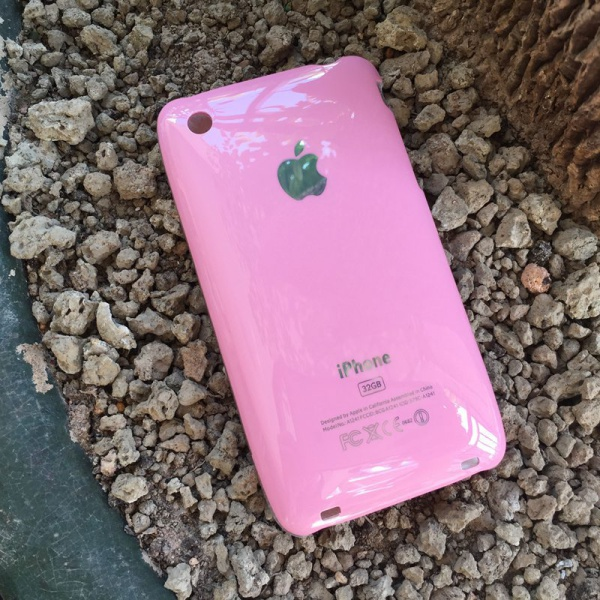apple: (274, 123, 330, 214)
